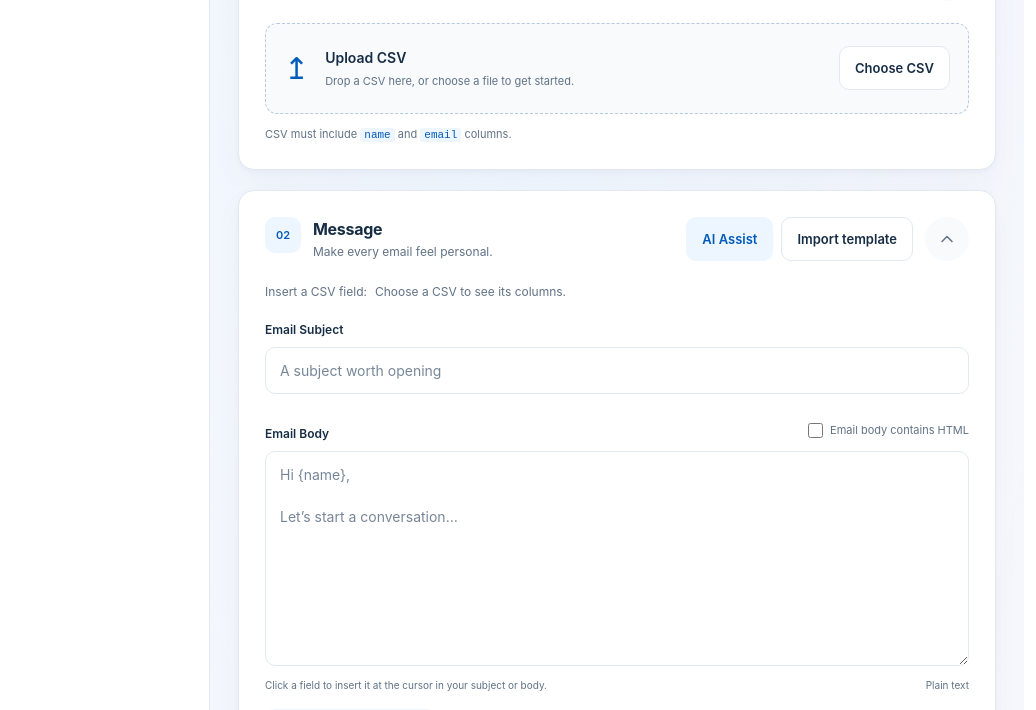
Test: disconnect cancels sending access while keeping the current draft editable
(page scrolled)
Type "Keep my subject" into the field labelled "Email Subject". click: coordinates (617, 371)
box: [265, 347, 969, 394]
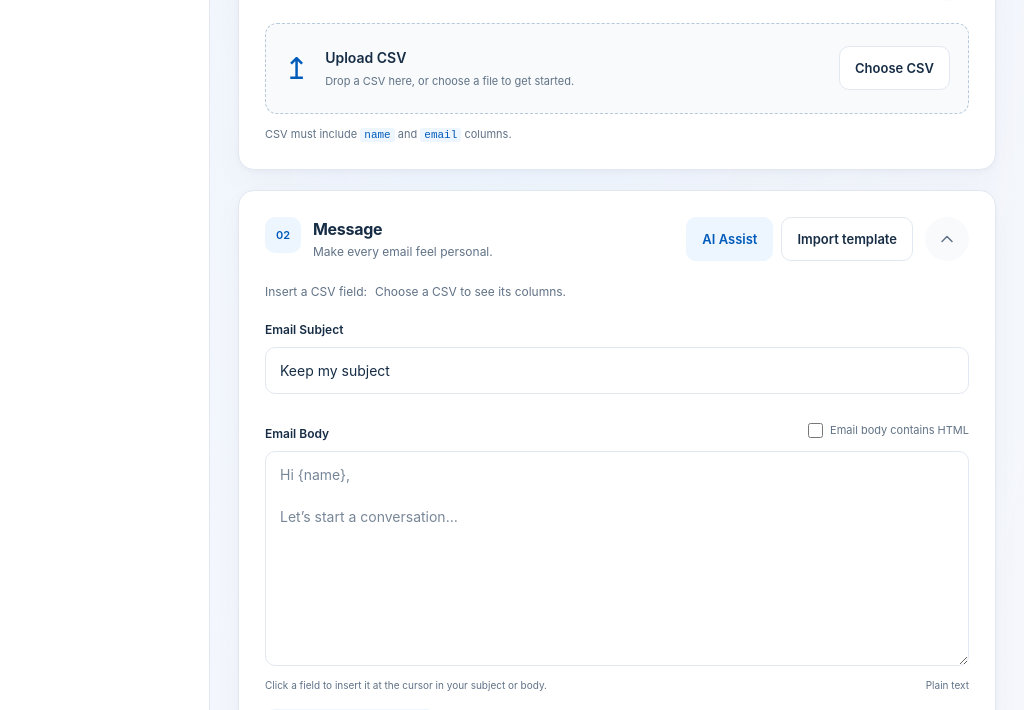
Type "Keep my draft" into the text box labelled "Email Body". click: coordinates (617, 559)
box: [265, 451, 969, 666]
(page scrolled)
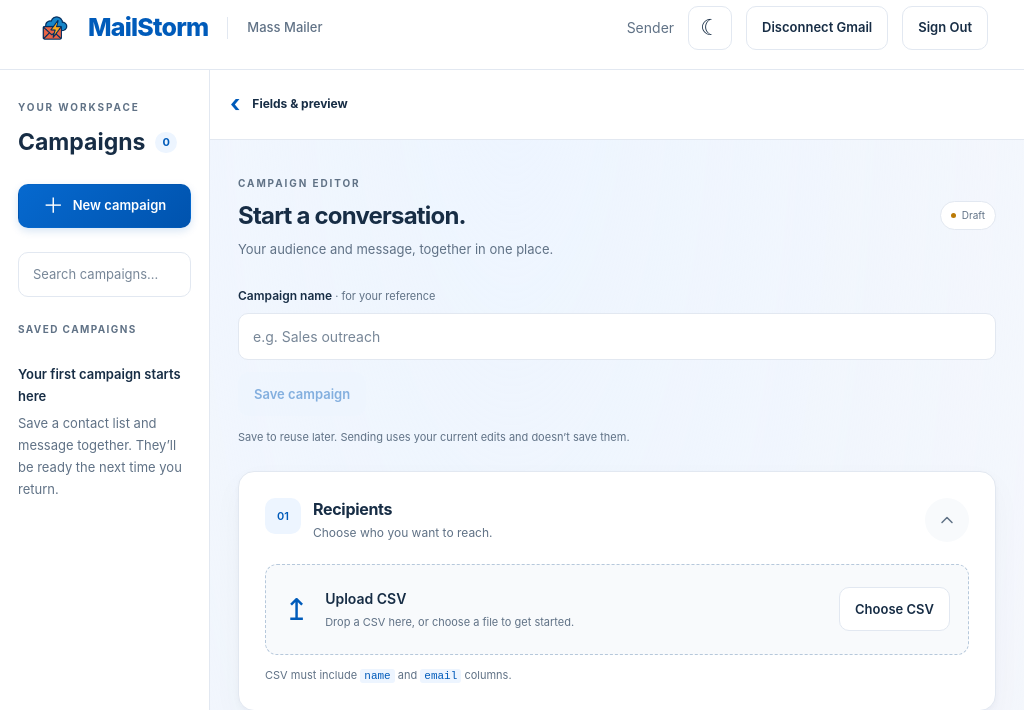
Check: the button "Disconnect Gmail" is enabled
Click the button "Disconnect Gmail". click: coordinates (817, 28)
box: [746, 6, 888, 50]
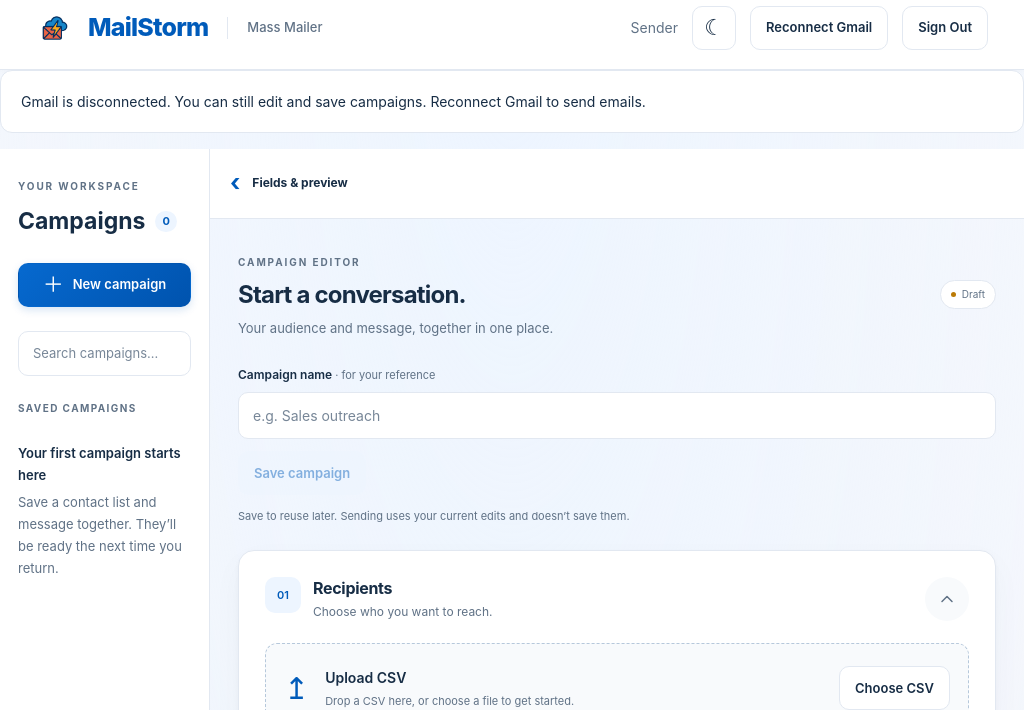
Check: the button "Reconnect Gmail" is enabled, box [750, 6, 888, 50]
Check: the text "Gmail is disconnected" is shown, box [21, 93, 646, 110]
